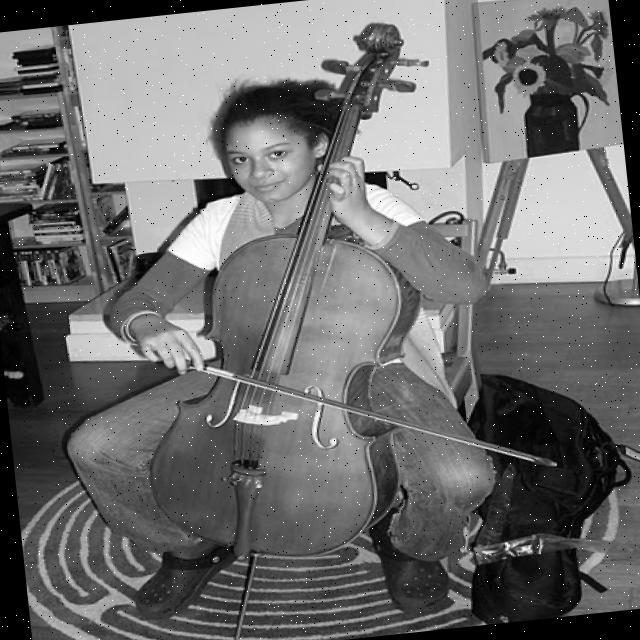cello: (100, 18, 480, 572)
